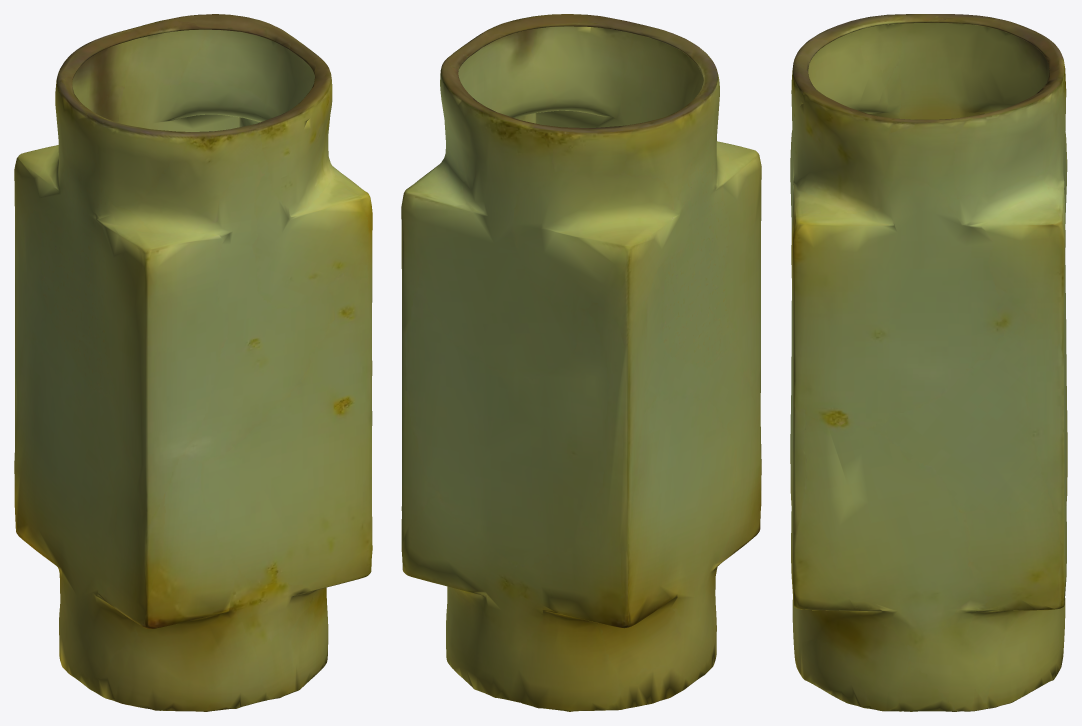
The model's file is zhou.glb.
The picture shows the model from 3 angles, left to right: view 1: azimuth 30°, elevation 25°; view 2: azimuth 150°, elevation 25°; view 3: azimuth 270°, elevation 25°; orthographic projection. The views are drawn at different scales.
Visible parts, largest first — view 1: node_0; view 2: node_0; view 3: node_0.
Boxes of the visible parts, box(x1,y1,x2,y2) form: node_0: box(14, 14, 372, 711); node_0: box(401, 14, 761, 711); node_0: box(790, 14, 1067, 711).
Size of the model in its own units: 0.4634 by 1.1 by 0.4639.
1 material, 1 textured.
